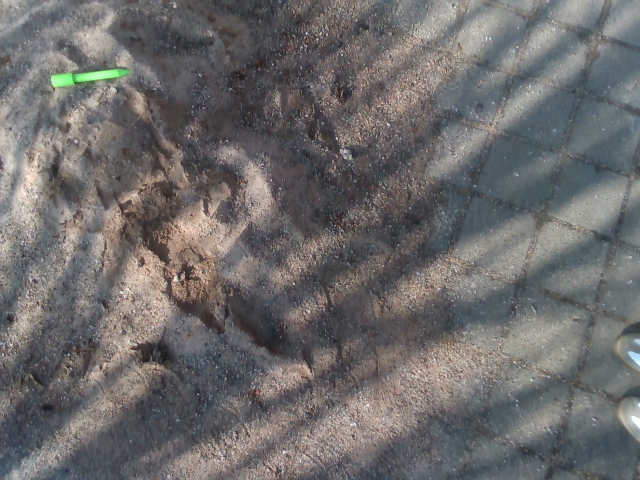Probe: (47, 63, 135, 93)
